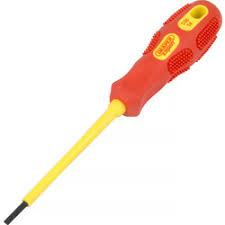screwdriver: (1, 0, 224, 223)
